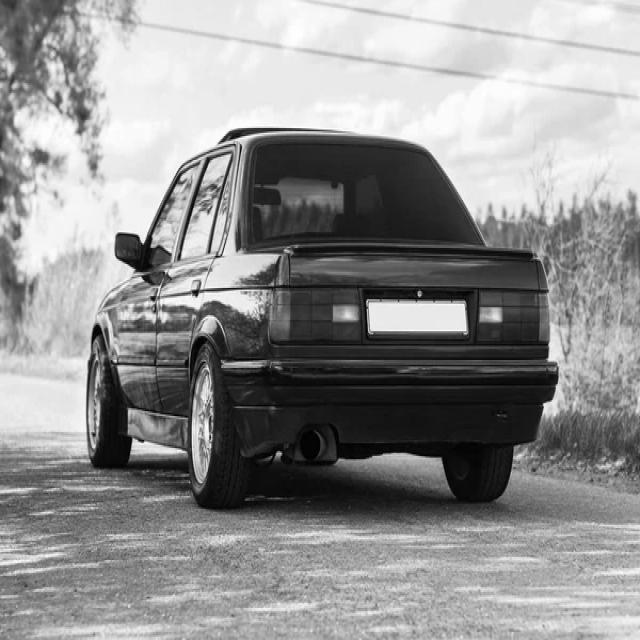Car: (86, 128, 559, 508)
